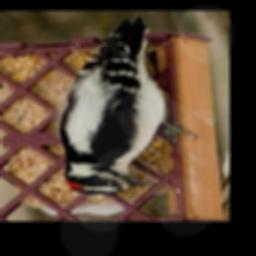Woodpecker: (60, 17, 197, 195)
